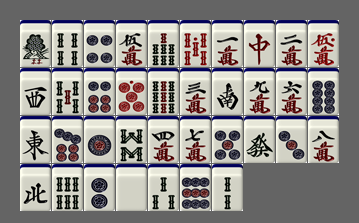0m: (308, 20, 339, 67)
0p: (116, 68, 147, 115)
0s: (180, 20, 211, 67)
1m: (212, 20, 243, 67)
1p: (84, 116, 115, 163)
1s: (20, 20, 51, 67)
1z: (20, 116, 51, 163)
2m: (276, 20, 307, 67)
2p: (84, 164, 115, 211)
2s: (212, 164, 243, 211)
2z: (212, 68, 243, 115)
3m: (180, 68, 211, 115)
3p: (276, 116, 307, 163)
3s: (148, 164, 179, 211)
3z: (20, 68, 51, 115)
4m: (148, 116, 179, 163)
4p: (84, 20, 115, 67)
4s: (52, 20, 83, 67)
4z: (20, 164, 51, 211)
5m: (116, 20, 147, 67)
5p: (212, 116, 243, 163)
5s: (52, 68, 83, 115)
5z: (116, 164, 147, 211)
6m: (276, 68, 307, 115)
6p: (84, 68, 115, 115)
6s: (52, 164, 83, 211)
6z: (244, 116, 275, 163)
7m: (180, 116, 211, 163)
7p: (52, 116, 83, 163)
7s: (148, 20, 179, 67)
7z: (244, 20, 275, 67)
8m: (308, 116, 339, 163)
8p: (308, 68, 339, 115)
8s: (116, 116, 147, 163)
9m: (244, 68, 275, 115)
9p: (180, 164, 211, 211)
9s: (148, 68, 179, 115)
